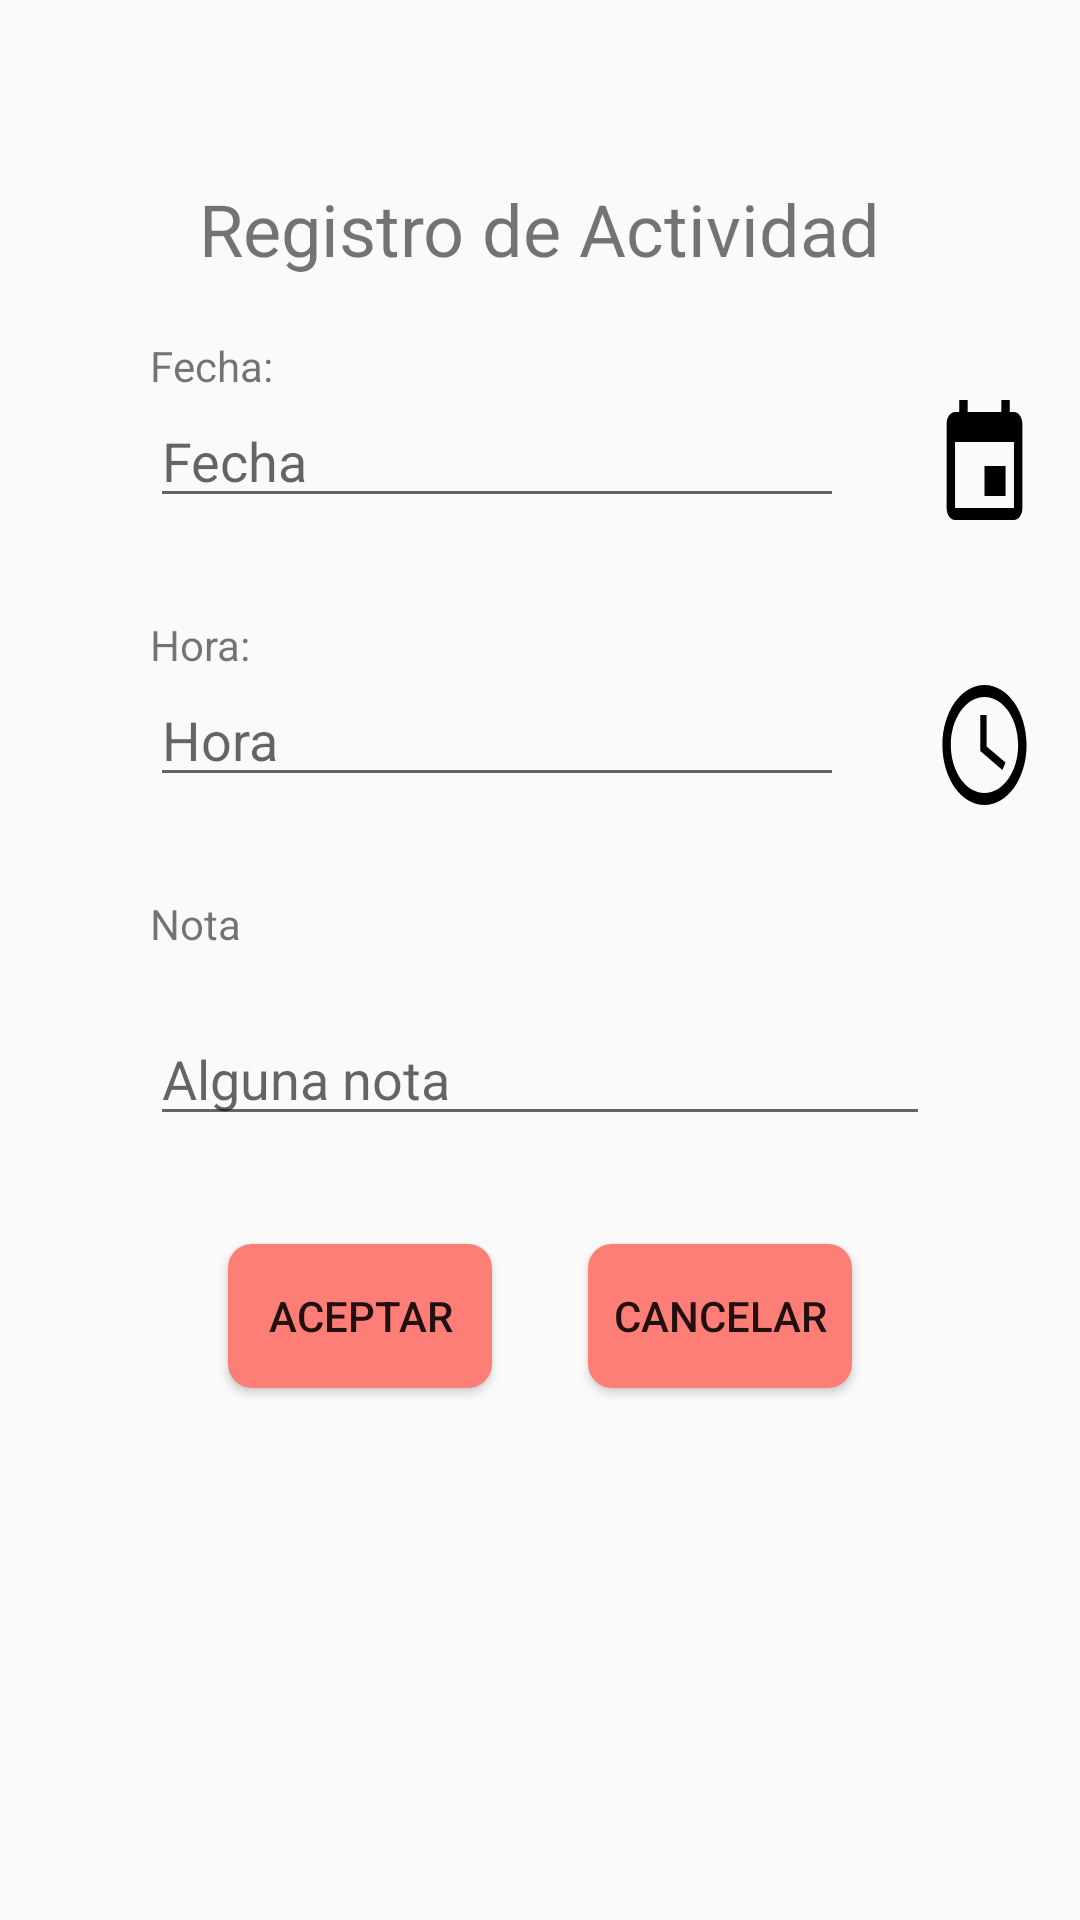

Where to tap for icons on this 1080px x 1920px app screen, as (x,y):
event: (984,460)
schedule: (984,745)
